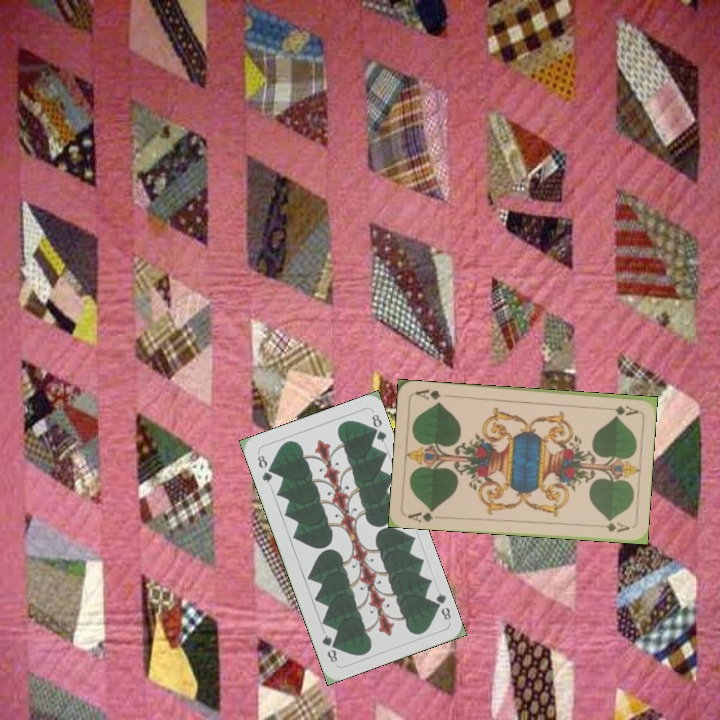G8: (429, 588, 454, 623), (253, 449, 275, 486)
GA: (404, 505, 444, 525), (600, 401, 640, 418)
